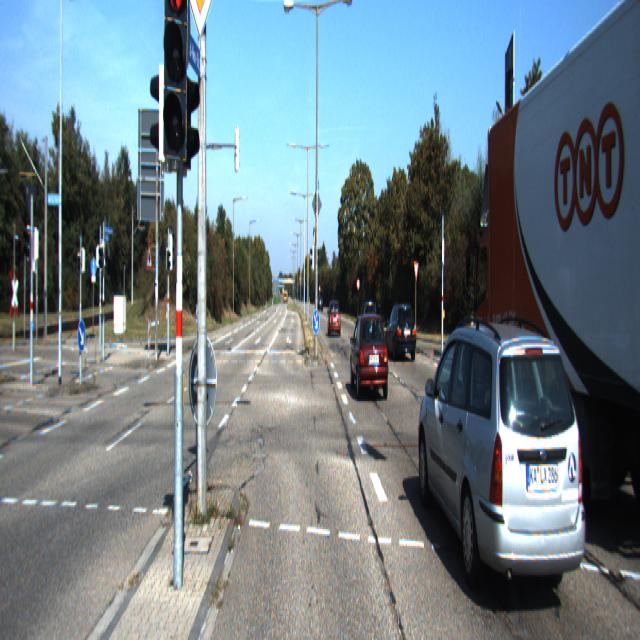Car: (465, 0, 639, 569), (417, 315, 593, 636), (350, 310, 389, 402), (384, 301, 417, 363), (359, 298, 377, 339), (327, 300, 341, 337)
